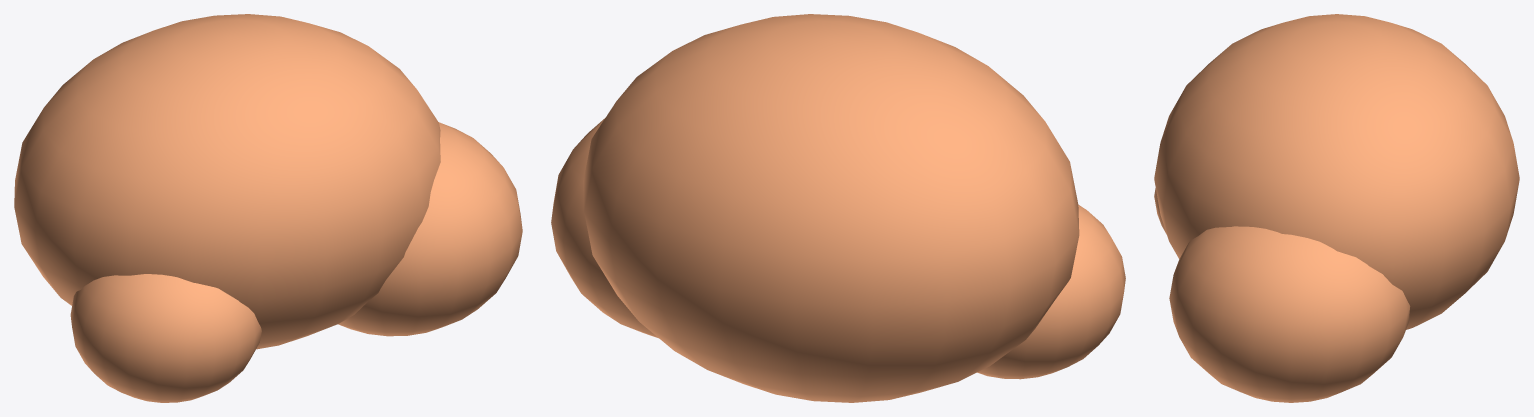
File: boulder-coral.001.fbx
The picture shows the model from 3 angles, left to right: view 1: azimuth 30°, elevation 25°; view 2: azimuth 150°, elevation 25°; view 3: azimuth 270°, elevation 25°; orthographic projection. The views are drawn at different scales.
Visible parts, largest first — view 1: boulder-coral.001; view 2: boulder-coral.001; view 3: boulder-coral.001.
Part boxes in pixels (x1,y1,x2,y2): boulder-coral.001: [14, 14, 522, 402]; boulder-coral.001: [551, 14, 1125, 402]; boulder-coral.001: [1154, 14, 1519, 402].
Bounding box in the file's own units: 160 × 103 × 120.
